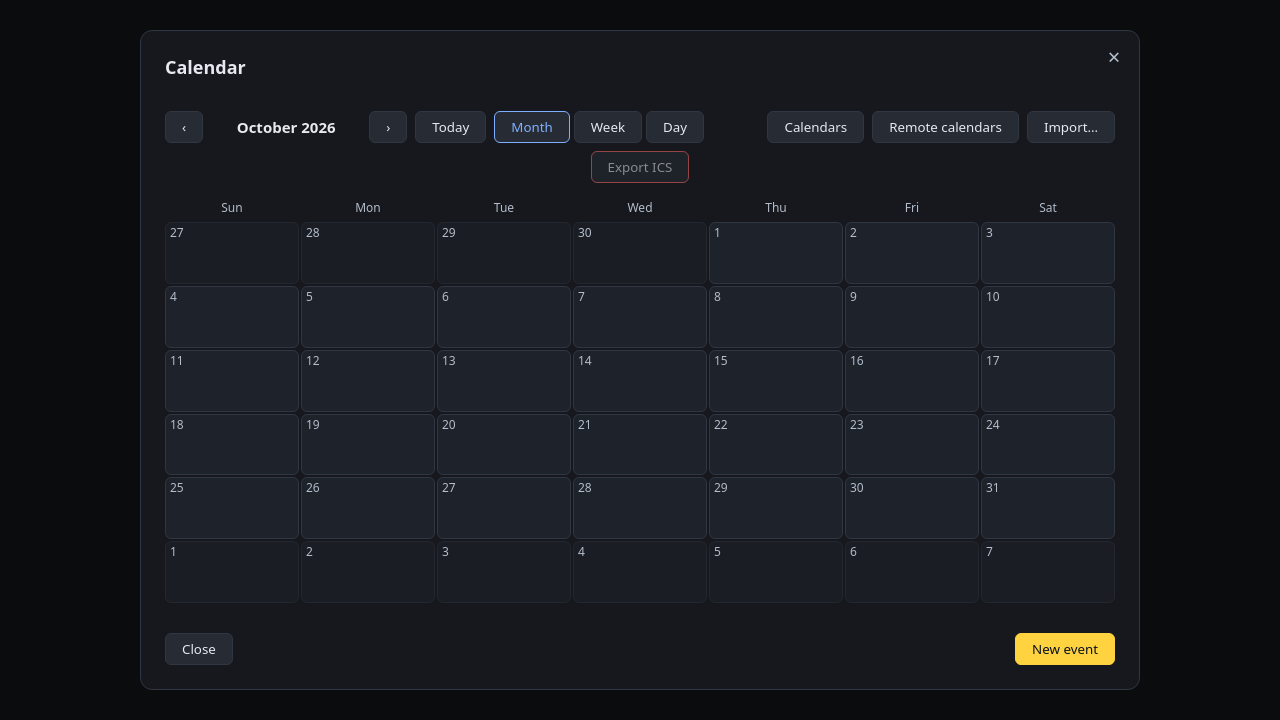
CalendarModal: event form › opens the new event form from the toolbar
Click the button "New event".
click(1065, 649)  # box [1015,633,1115,665]
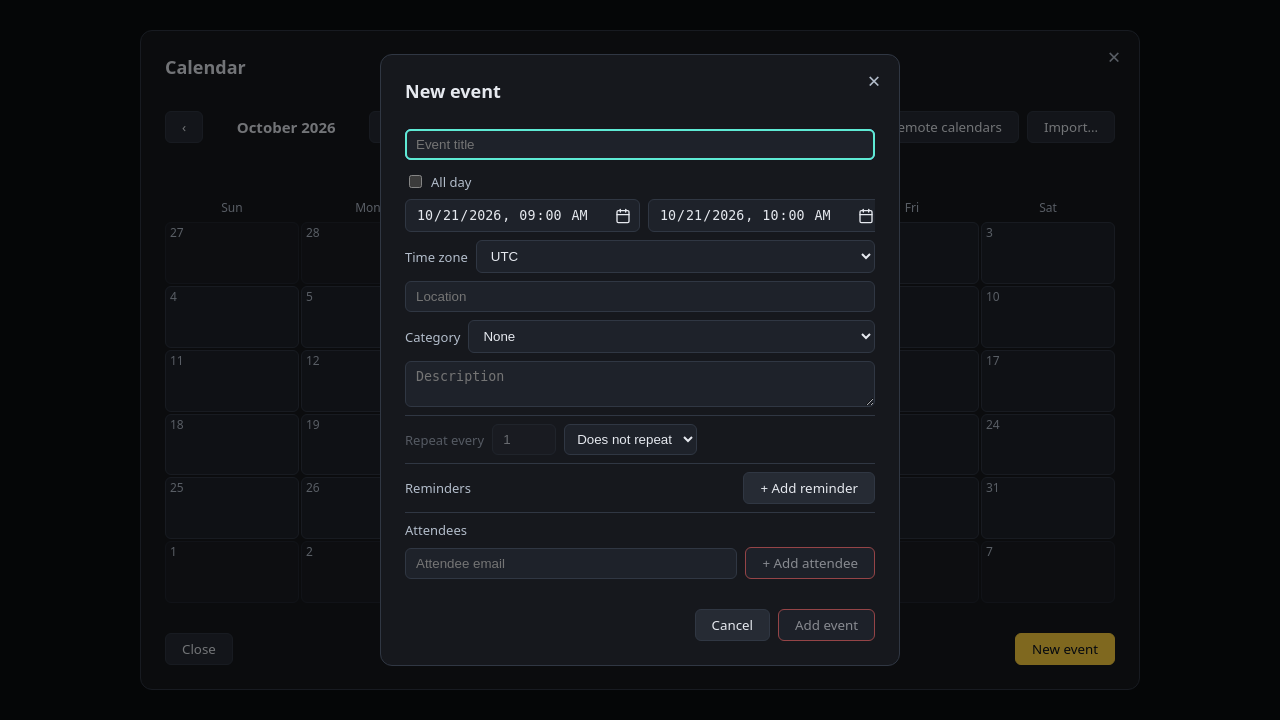
Check: the dialog "New event" is shown, box [380,54,900,666]
Check: the field with placeholder "Event title" is shown, box [405,129,875,160]
